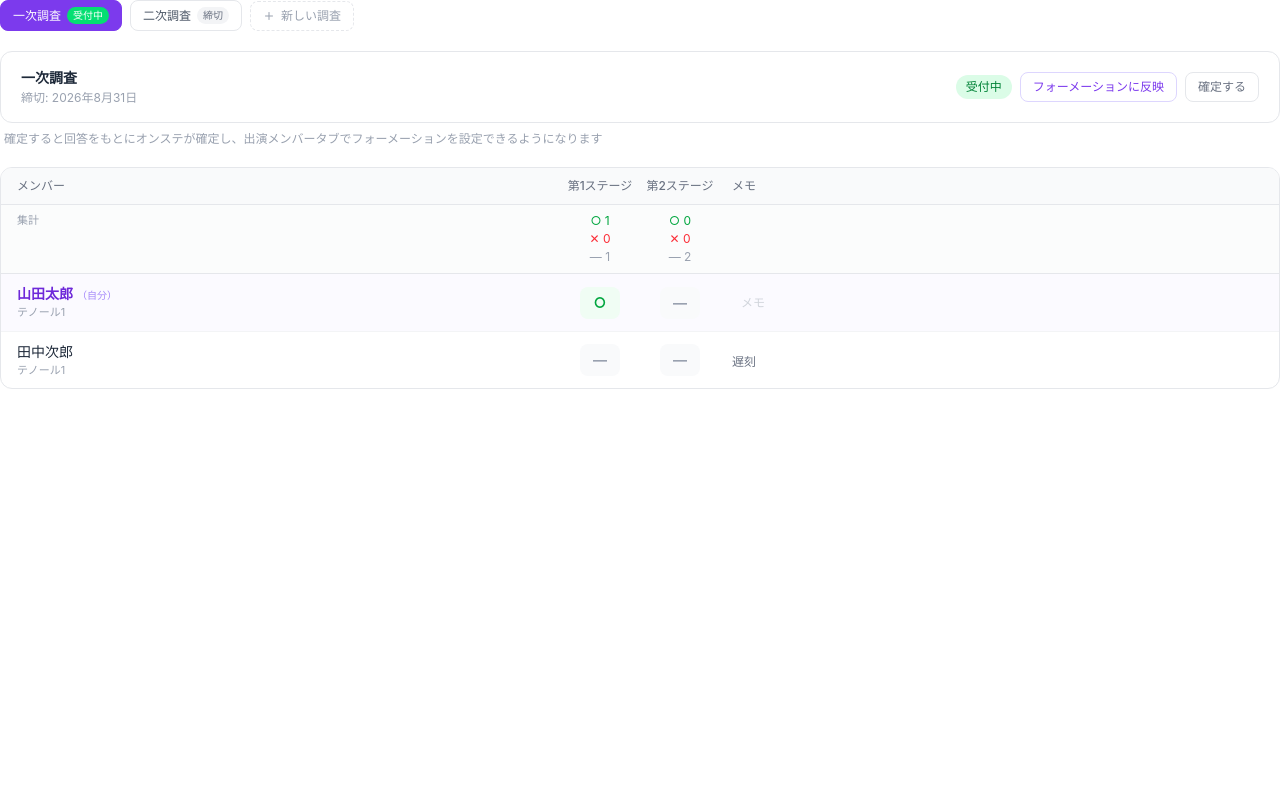
SurveyTab（複数調査・フォーメーション反映） › 反映を確認でキャンセルするとapplySurveyToFormationを呼ばない
Step 1. Click the button "フォーメーションに反映" → [1098, 87], box [1020, 72, 1177, 102]
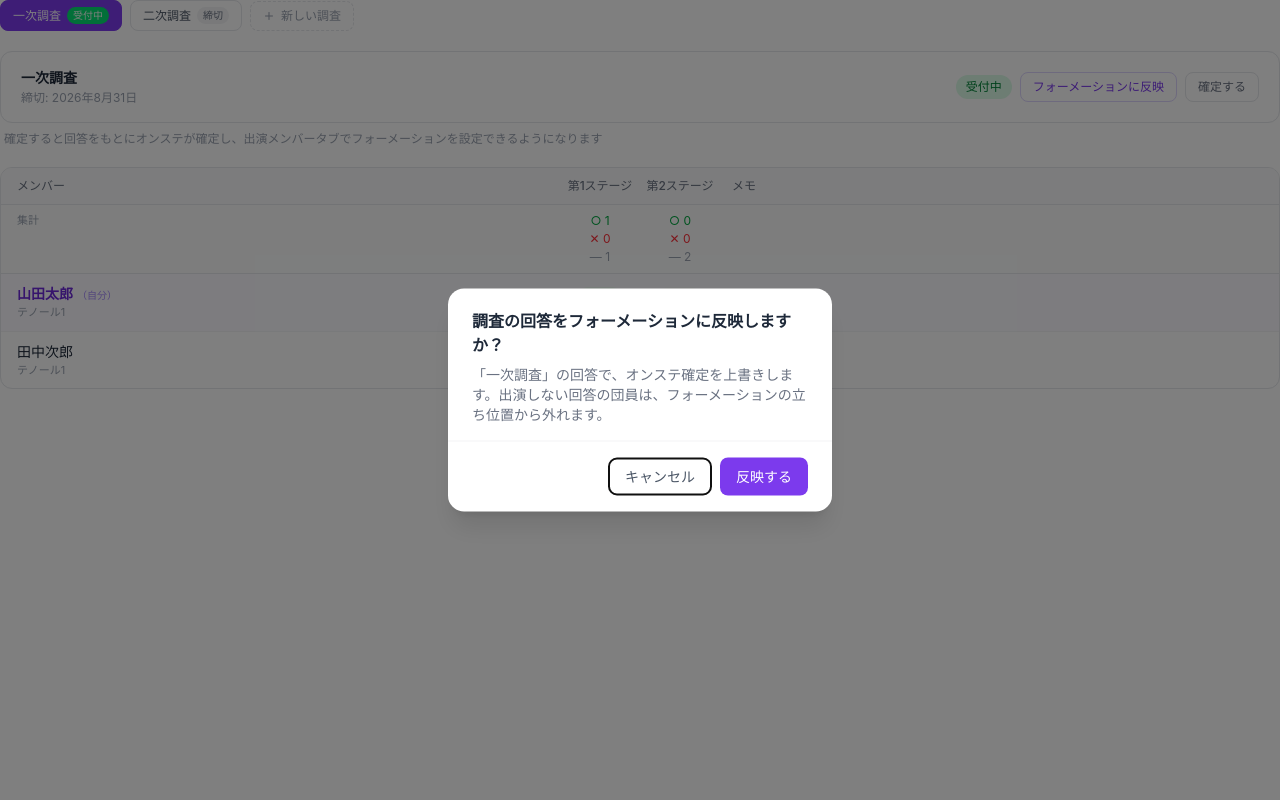
Step 2. Click the button "キャンセル" → [660, 476], box [608, 458, 712, 496]
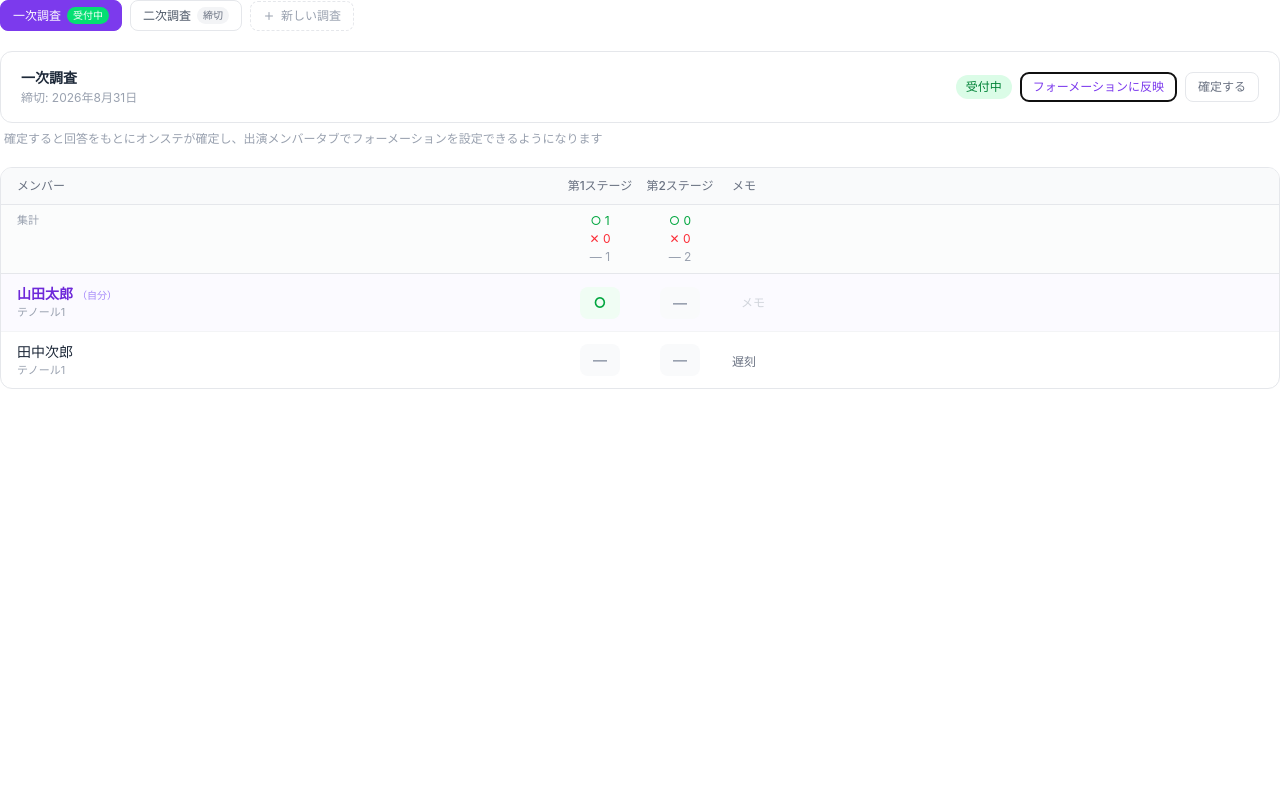
Expected: the dialog is gone
